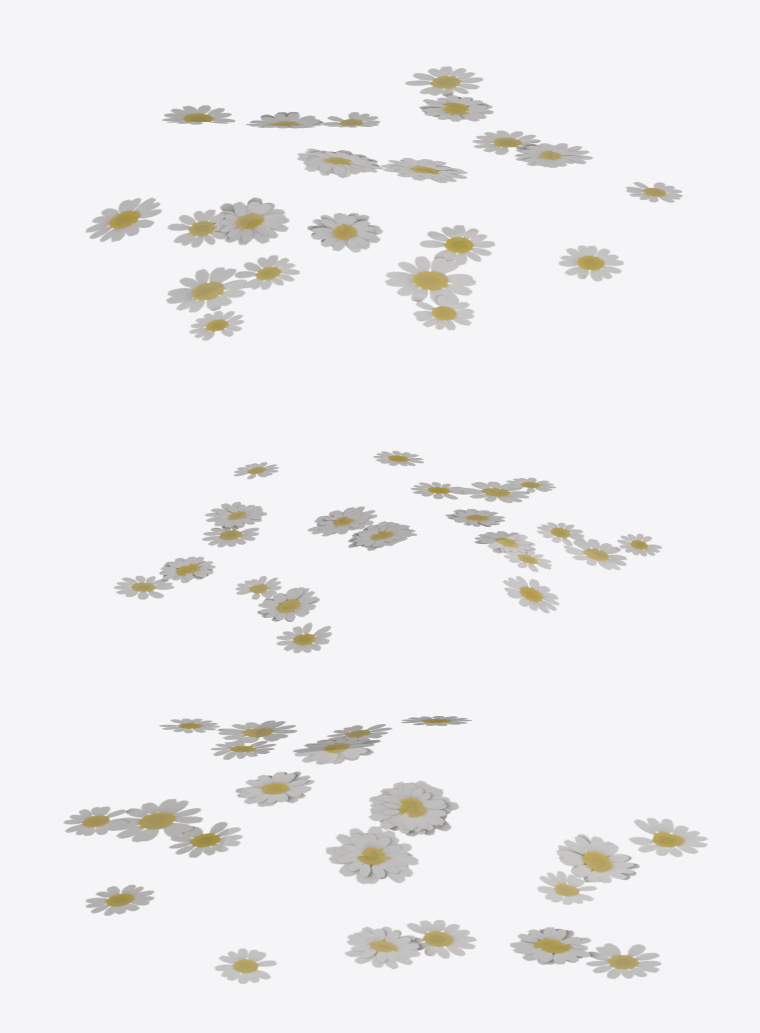
Rendered from flowers-seperate1.glb.
3 views of the same model, one above another, from view 1: azimuth 30°, elevation 25°; view 2: azimuth 150°, elevation 25°; view 3: azimuth 270°, elevation 25° (orthographic). The views are drawn at different scales.
Visible parts, largest first — view 1: Flowers-03; view 2: Flowers-03; view 3: Flowers-03.
Part boxes in pixels (x1,y1,x2,y2): Flowers-03: (85,66,682,340); Flowers-03: (114,451,661,652); Flowers-03: (63,716,707,983).
Bounding box in the file's own units: 1.61 × 0.1578 × 1.61.
1 material, 1 textured.
